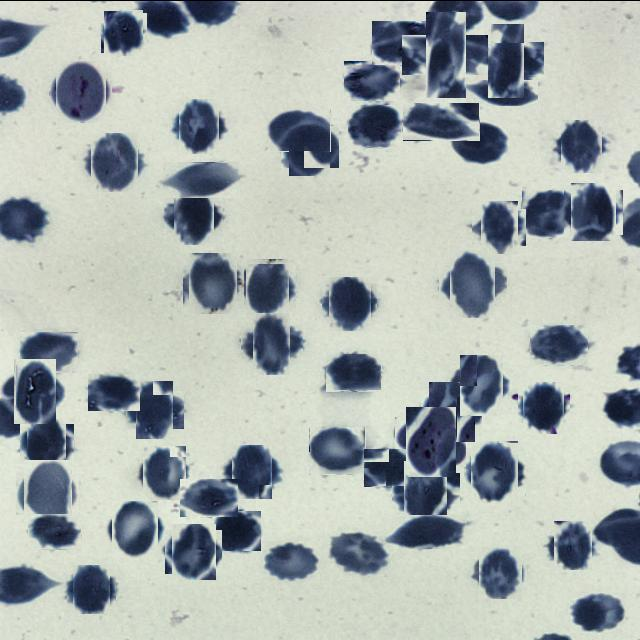red blood cell: (413, 23, 478, 86), (444, 254, 502, 312), (20, 462, 76, 518), (398, 466, 454, 522), (478, 32, 534, 88), (186, 255, 241, 310), (403, 102, 480, 140), (468, 444, 522, 498), (424, 384, 478, 438), (8, 364, 62, 418), (163, 161, 241, 198), (88, 134, 140, 188), (266, 108, 331, 151), (568, 185, 620, 238), (386, 514, 467, 548), (309, 426, 366, 474), (109, 502, 161, 554), (456, 358, 508, 410), (522, 189, 578, 237), (372, 20, 432, 64), (332, 530, 389, 576), (242, 261, 293, 311), (168, 190, 218, 240), (168, 526, 218, 576), (247, 318, 297, 368), (285, 121, 335, 171), (325, 278, 374, 328), (262, 540, 320, 582), (140, 448, 189, 497), (20, 331, 78, 372), (452, 120, 508, 162), (348, 104, 402, 147), (530, 324, 588, 364), (476, 548, 524, 596), (228, 447, 276, 495), (131, 385, 179, 433), (520, 384, 568, 431), (176, 102, 223, 150), (344, 60, 400, 100), (570, 592, 626, 632), (23, 419, 70, 466), (180, 478, 238, 516), (465, 74, 538, 104), (558, 122, 605, 168), (326, 352, 382, 390), (476, 204, 522, 249), (364, 448, 418, 486), (212, 510, 261, 550), (28, 513, 82, 549), (70, 566, 114, 610), (550, 523, 594, 567), (88, 373, 140, 410), (102, 11, 145, 54)
ring: (400, 411, 461, 472), (52, 63, 109, 119)
